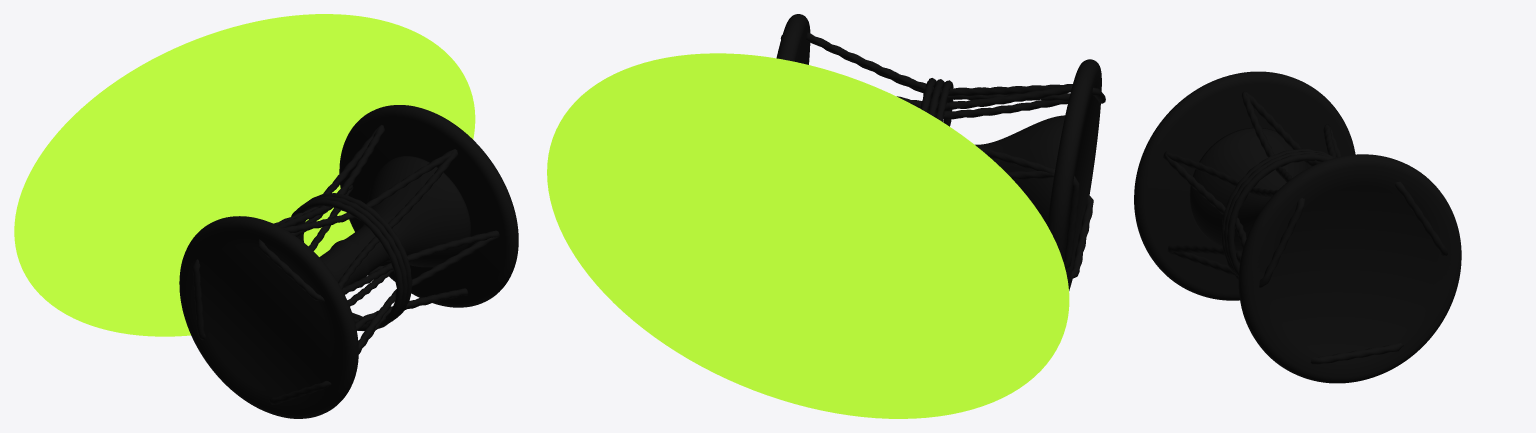
The picture shows the model from 3 angles, left to right: view 1: azimuth 30°, elevation 25°; view 2: azimuth 150°, elevation 25°; view 3: azimuth 270°, elevation 25°; orthographic projection. The views are drawn at different scales.
Visible parts, largest first — view 1: hikari, kawa_hidari, kawa_migi, shirabe, dou; view 2: hikari, shirabe, kawa_hidari, dou, kawa_migi; view 3: kawa_migi, kawa_hidari, shirabe, dou.
Part boxes in pixels (<box>): hikari: <box>14,14,475,336</box>; kawa_hidari: <box>179,216,358,418</box>; kawa_migi: <box>339,105,518,307</box>; shirabe: <box>192,124,499,404</box>; dou: <box>319,156,470,287</box>; hikari: <box>547,53,1069,418</box>; shirabe: <box>780,32,1105,279</box>; kawa_hidari: <box>1047,59,1101,290</box>; dou: <box>975,115,1065,224</box>; kawa_migi: <box>776,14,810,64</box>; kawa_migi: <box>1238,154,1461,383</box>; kawa_hidari: <box>1134,71,1355,300</box>; shirabe: <box>1163,90,1447,364</box>; dou: <box>1189,127,1308,251</box>.
Size of the model in its own units: 2.68 by 1.68 by 1.82.
